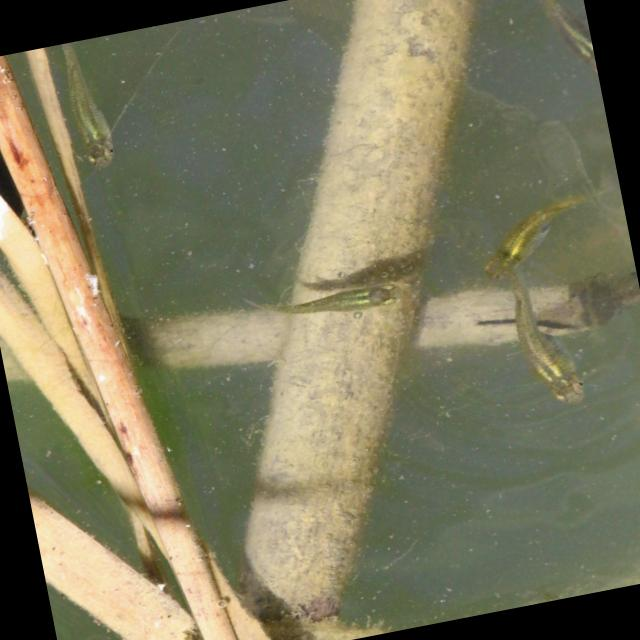Sivrisinek Baligi: (480, 262, 594, 426), (456, 180, 604, 288), (244, 262, 418, 347), (36, 36, 131, 178)
